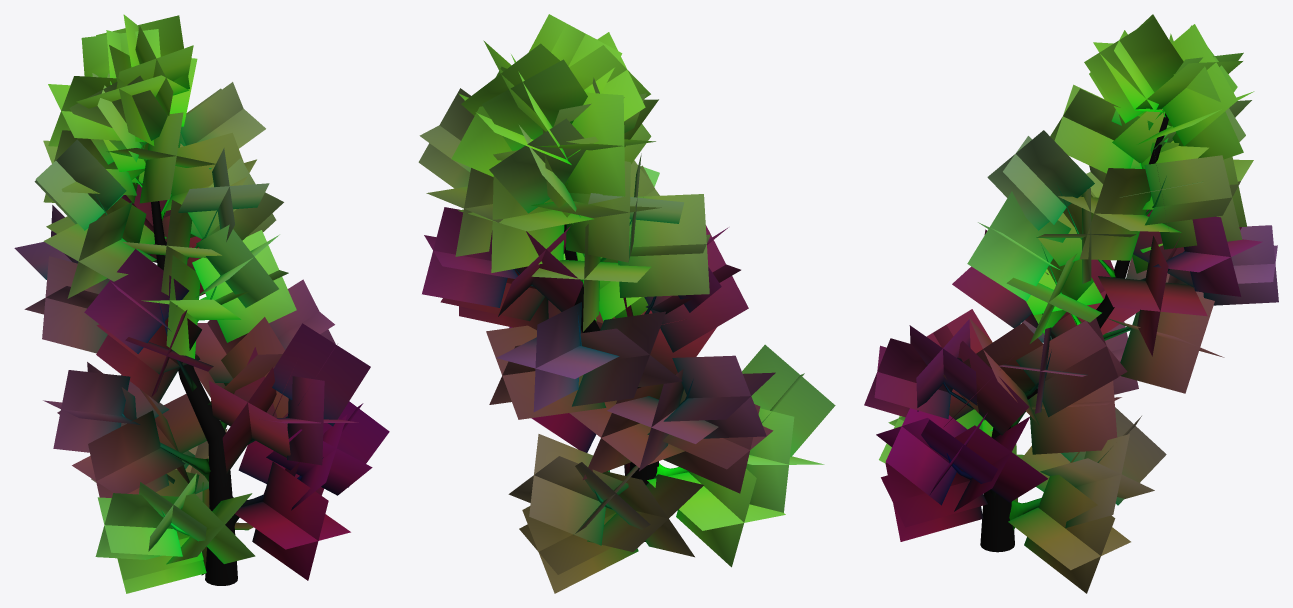
The model's file is URP_P7_Tree_12_LOD_2.fbx.
3 views of the same model, side by side, from view 1: azimuth 30°, elevation 25°; view 2: azimuth 150°, elevation 25°; view 3: azimuth 270°, elevation 25° (orthographic). The views are drawn at different scales.
Visible parts, largest first — view 1: Tree_12_LOD_2; view 2: Tree_12_LOD_2; view 3: Tree_12_LOD_2.
Part boxes in pixels (x1,y1,x2,y2): Tree_12_LOD_2: (14, 14, 389, 593); Tree_12_LOD_2: (418, 14, 835, 593); Tree_12_LOD_2: (864, 14, 1278, 593).
Size of the model in its own units: 232 by 423 by 287.
